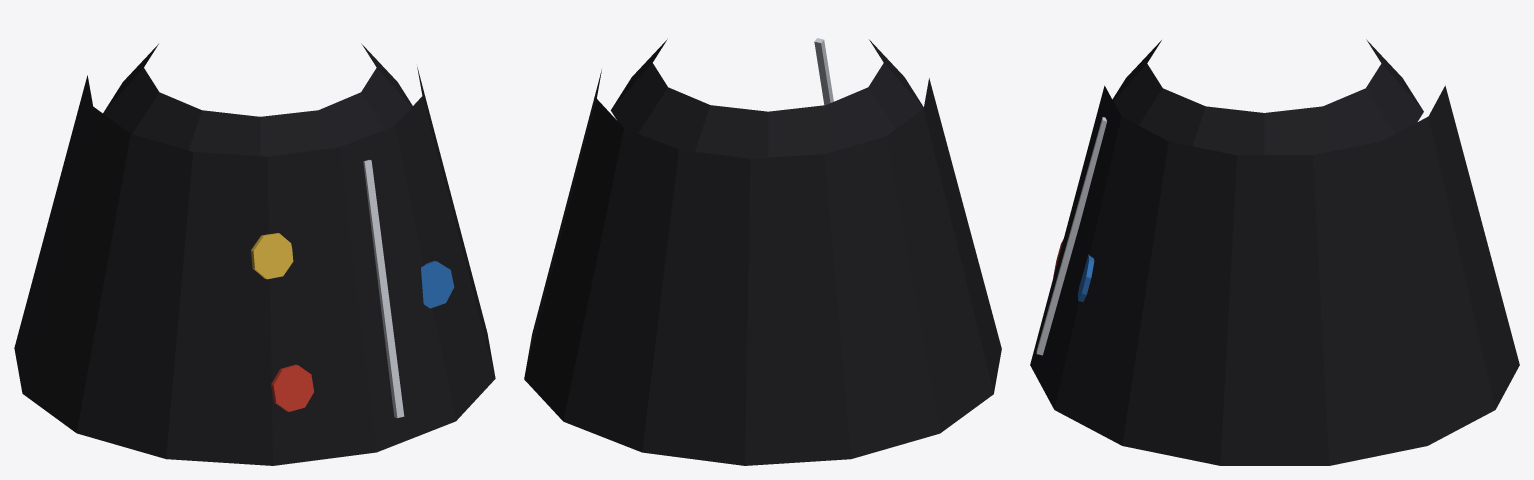
The model's file is disguise_biker_jacket.glb.
3 views of the same model, side by side, from view 1: azimuth 30°, elevation 25°; view 2: azimuth 150°, elevation 25°; view 3: azimuth 270°, elevation 25° (orthographic).
Visible parts, largest first — view 1: jacket_biker_leather, collar_biker_leather, zip_biker_silver, patches_biker_patch_c03a2a, patches_biker_patch_d8b040, patches_biker_patch_2a6ab0; view 2: jacket_biker_leather, collar_biker_leather, zip_biker_silver; view 3: jacket_biker_leather, collar_biker_leather, zip_biker_silver.
Part boxes in pixels (x1,y1,x2,y2): jacket_biker_leather: [14, 67, 495, 465]; collar_biker_leather: [103, 43, 412, 156]; zip_biker_silver: [363, 159, 404, 417]; patches_biker_patch_c03a2a: [271, 364, 313, 411]; patches_biker_patch_d8b040: [251, 233, 293, 279]; patches_biker_patch_2a6ab0: [421, 261, 454, 308]; jacket_biker_leather: [524, 69, 1001, 465]; collar_biker_leather: [611, 39, 923, 158]; zip_biker_silver: [814, 38, 833, 105]; jacket_biker_leather: [1030, 85, 1519, 465]; collar_biker_leather: [1112, 39, 1423, 155]; zip_biker_silver: [1036, 117, 1106, 355].
Bounding box in the file's own units: 0.8969 × 0.625 × 0.92.
